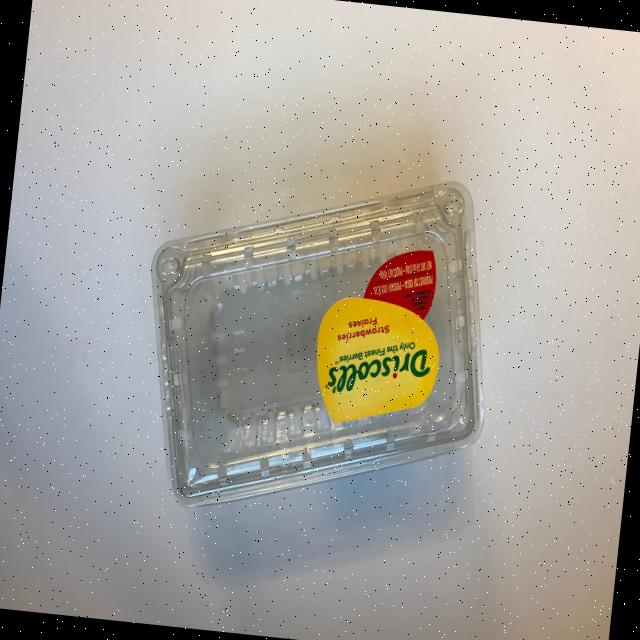plastic: (126, 150, 508, 538)
